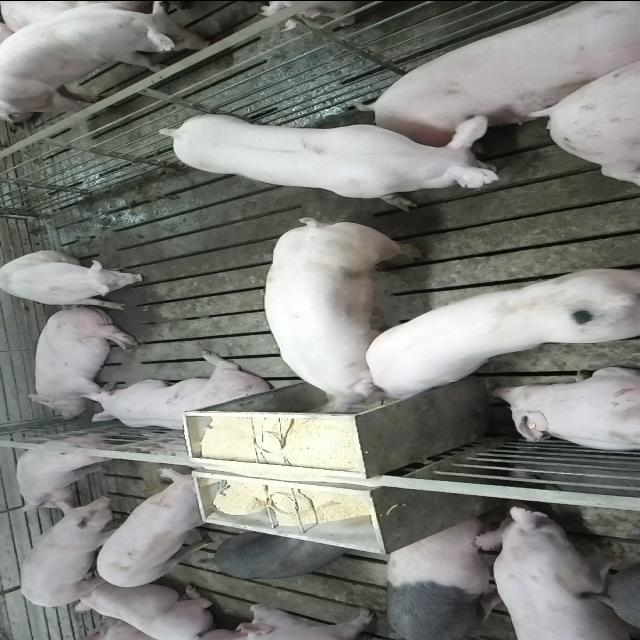Feeding: (361, 264, 635, 404), (262, 213, 419, 411)
Lateral_lying: (23, 303, 140, 418)
Sitting: (0, 250, 147, 308)
Standing: (155, 106, 509, 206), (0, 0, 213, 116), (472, 502, 640, 639), (382, 514, 509, 638), (93, 469, 223, 590), (21, 496, 133, 609), (15, 434, 131, 514), (214, 529, 350, 580), (241, 603, 379, 640)
Sternal_lying: (357, 4, 640, 152), (80, 353, 274, 432), (491, 367, 640, 454), (70, 579, 220, 637)
